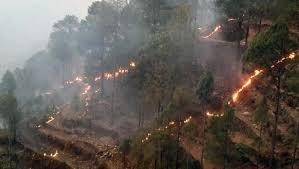fire: (63, 60, 136, 98), (228, 65, 261, 103), (203, 23, 223, 37), (42, 147, 60, 158)
